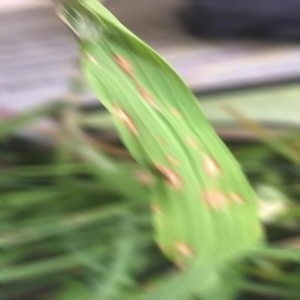Brown_Spot: (194, 148, 241, 191), (102, 100, 140, 142), (196, 187, 247, 215), (147, 162, 186, 196), (128, 78, 167, 111), (109, 44, 142, 78), (176, 131, 218, 157), (158, 139, 184, 167), (170, 234, 200, 257), (164, 101, 184, 128)
